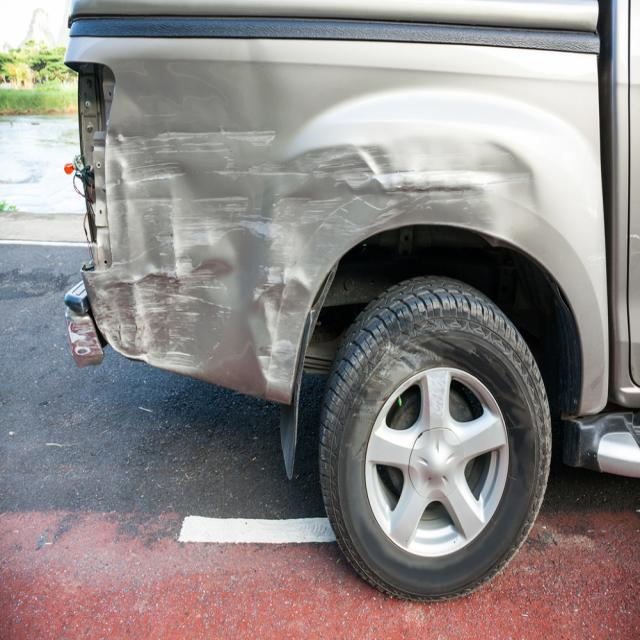dent: (79, 66, 535, 394)
scratch: (68, 319, 102, 360)
